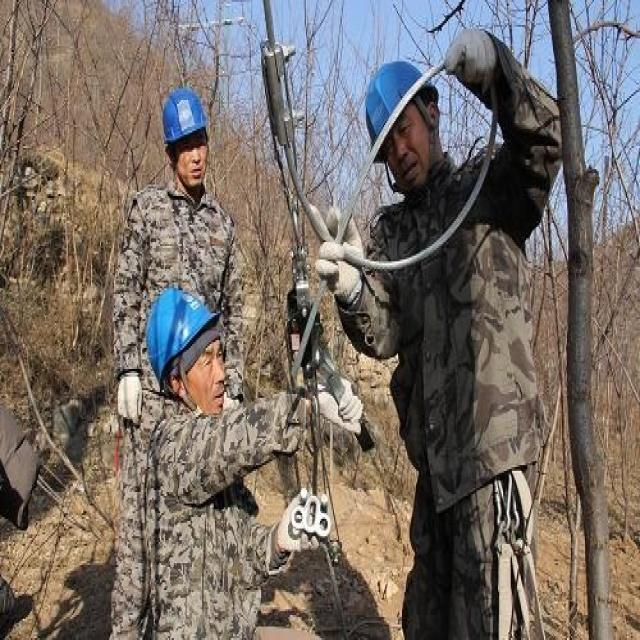helmet: (143, 374, 225, 558), (366, 83, 442, 255), (161, 115, 212, 256)
